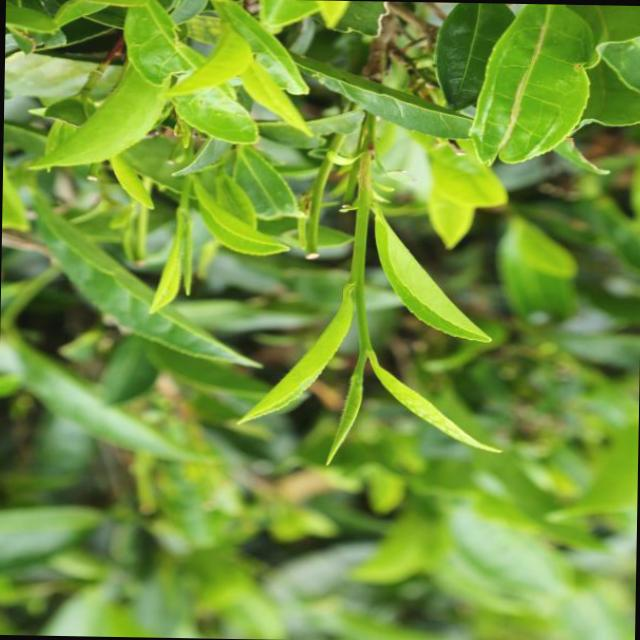Stem: (359, 333, 370, 353), (180, 199, 187, 212)
